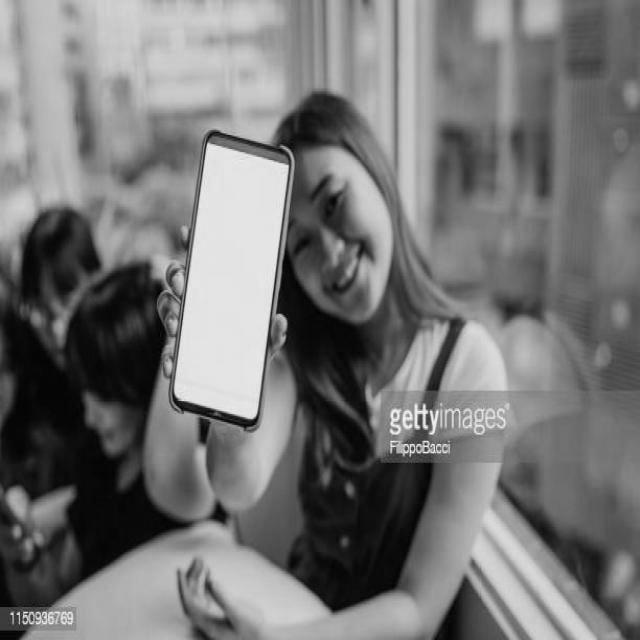fake: (168, 126, 296, 430)
real: (292, 154, 385, 316)
